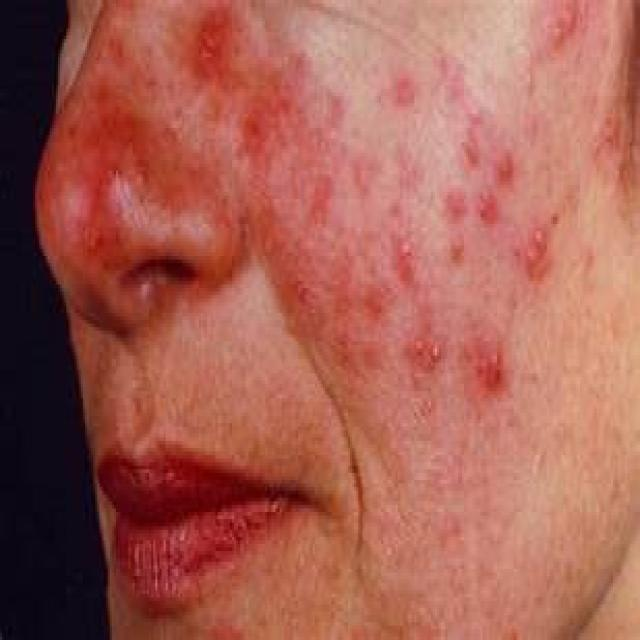Rosacea: (202, 20, 551, 388), (39, 79, 163, 248)
